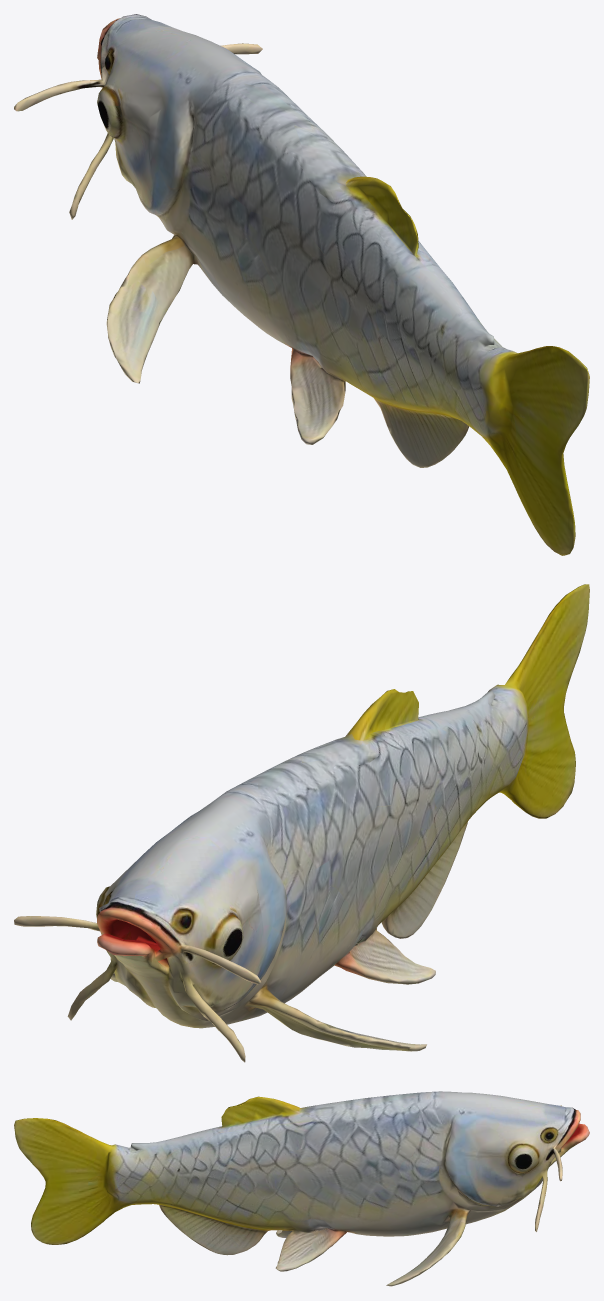
Rendered from arowana.glb.
The picture shows the model from 3 angles, top to bottom: view 1: azimuth 30°, elevation 25°; view 2: azimuth 150°, elevation 25°; view 3: azimuth 270°, elevation 25°; orthographic projection. The views are drawn at different scales.
Parts seen in each view (by area): view 1: tripo_node_7f20fbcc-3edf-4988-97f5-aeabf83d948b; view 2: tripo_node_7f20fbcc-3edf-4988-97f5-aeabf83d948b; view 3: tripo_node_7f20fbcc-3edf-4988-97f5-aeabf83d948b.
Boxes of the visible parts, x1=… form: tripo_node_7f20fbcc-3edf-4988-97f5-aeabf83d948b: x1=14, y1=14, x2=589, y2=555; tripo_node_7f20fbcc-3edf-4988-97f5-aeabf83d948b: x1=14, y1=584, x2=589, y2=1062; tripo_node_7f20fbcc-3edf-4988-97f5-aeabf83d948b: x1=14, y1=1091, x2=589, y2=1286.
Size of the model in its own units: 0.3591 by 0.3093 by 1.
Materials: 1 (1 with a texture image).
